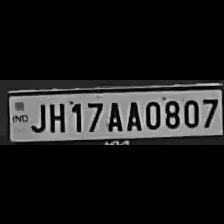0: (140, 97, 162, 129), (180, 96, 200, 128)
1: (66, 100, 84, 132)
7: (83, 98, 103, 132), (200, 96, 220, 128)
8: (162, 97, 182, 129)
A: (104, 97, 124, 130), (123, 97, 141, 130)
H: (46, 99, 66, 133)
J: (28, 100, 46, 132)
